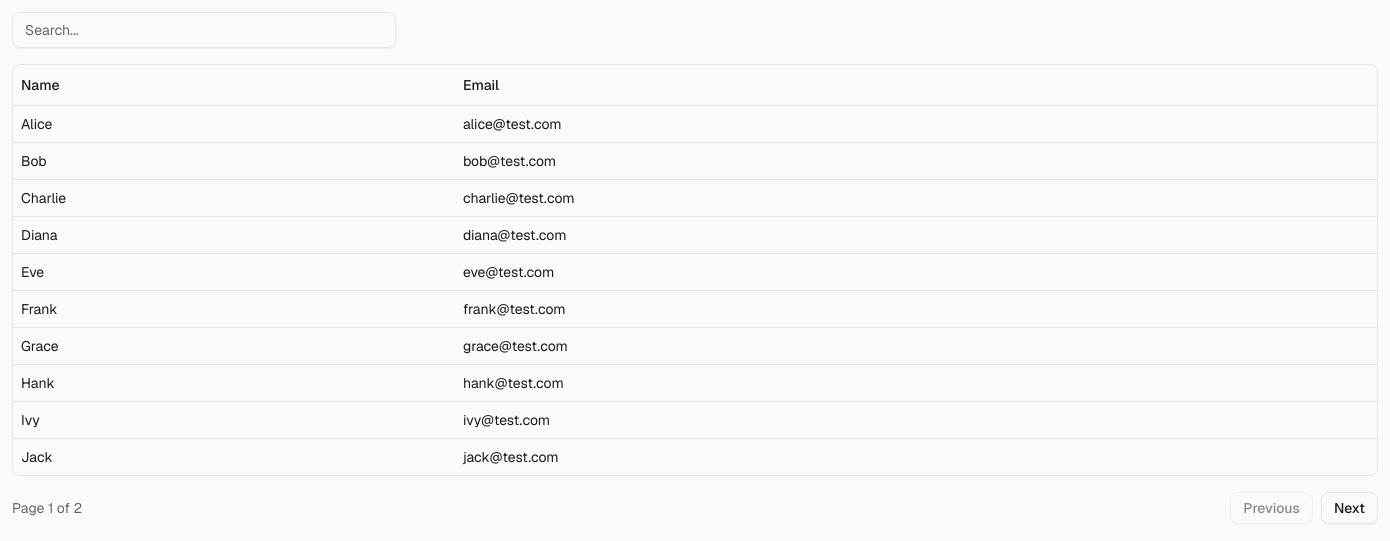
Test case: DataTable › filters data based on search input
The image size is (1390, 541).
Type "Web" into the field with placeholder "Search...". click: (204, 30)
box: left=12, top=12, right=396, bottom=48
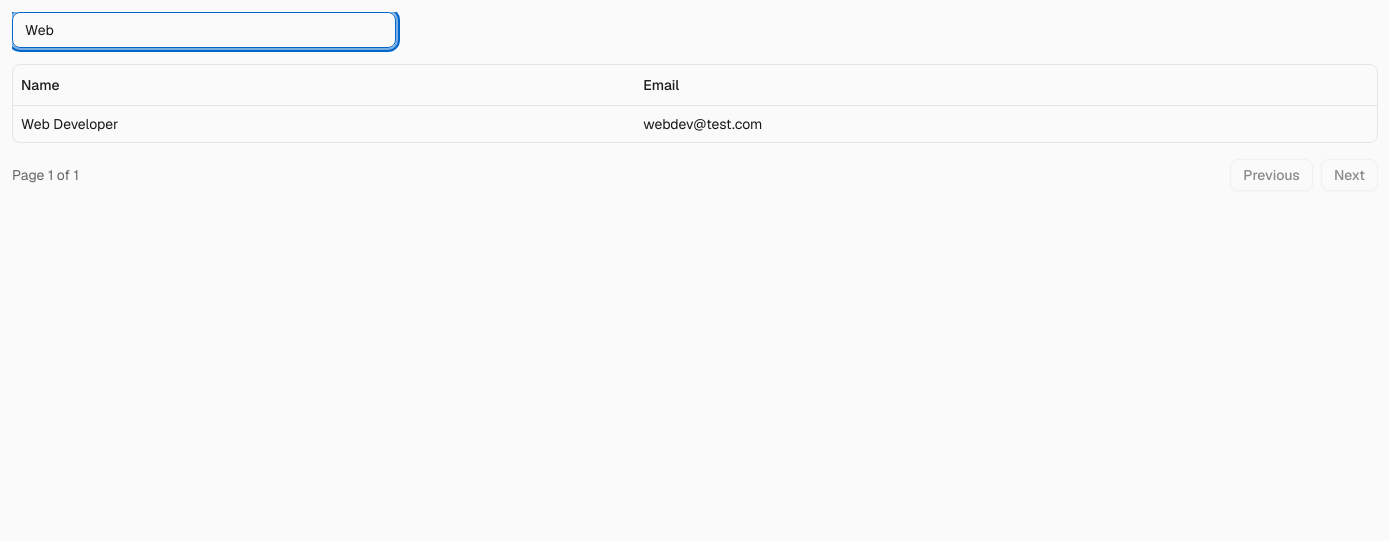
Result: the text "Web Developer" is shown at left=13, top=105, right=635, bottom=142
Result: the text "Alice" is gone
